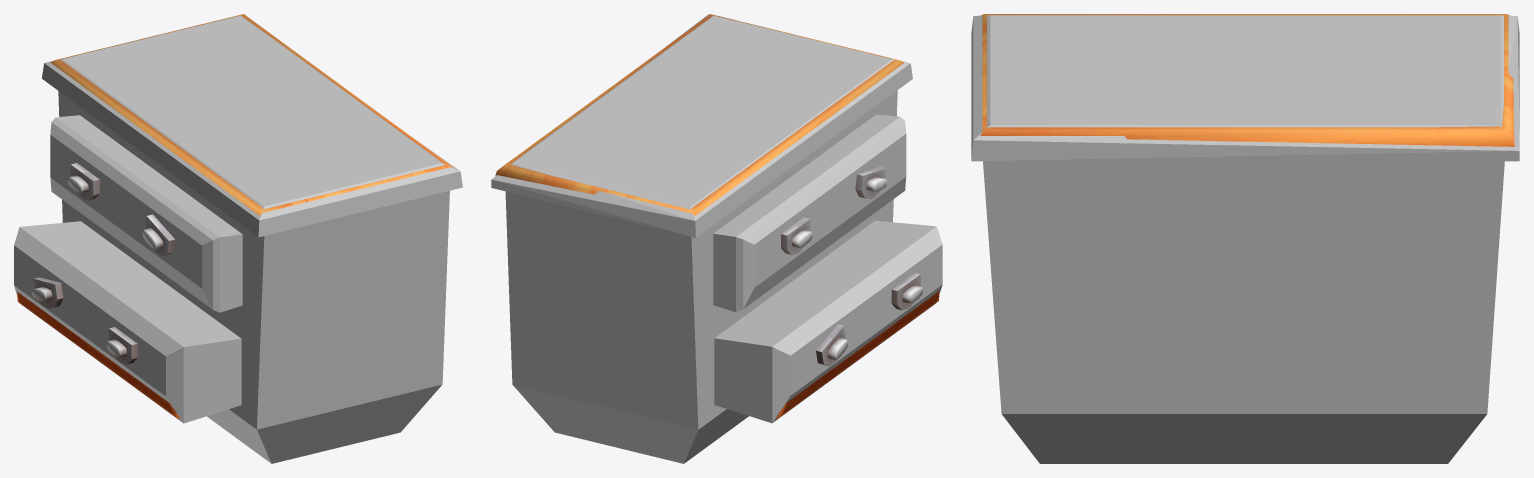
File: SM_Bedside02.fbx
The picture shows the model from 3 angles, left to right: view 1: azimuth 30°, elevation 25°; view 2: azimuth 150°, elevation 25°; view 3: azimuth 270°, elevation 25°; orthographic projection. The views are drawn at different scales.
Visible parts, largest first — view 1: SM_Bedside02_ConvexHulls, SM_Bedside02; view 2: SM_Bedside02_ConvexHulls, SM_Bedside02; view 3: SM_Bedside02_ConvexHulls, SM_Bedside02.
Boxes of the visible parts, left/top/right/bottom form: SM_Bedside02_ConvexHulls: left=14, top=15, right=462, bottom=463; SM_Bedside02: left=17, top=14, right=453, bottom=419; SM_Bedside02_ConvexHulls: left=491, top=14, right=942, bottom=463; SM_Bedside02: left=495, top=14, right=939, bottom=419; SM_Bedside02_ConvexHulls: left=971, top=15, right=1519, bottom=463; SM_Bedside02: left=980, top=14, right=1514, bottom=146.
Size of the model in its own units: 80.86 by 109 by 77.1.
2 materials, 1 textured.
